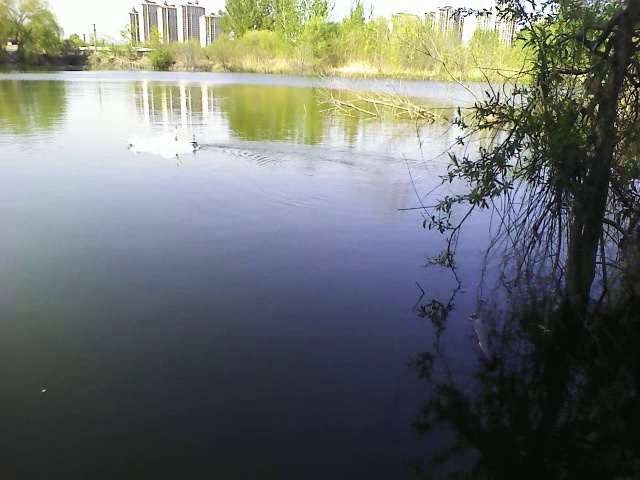boat: (131, 132, 202, 160)
